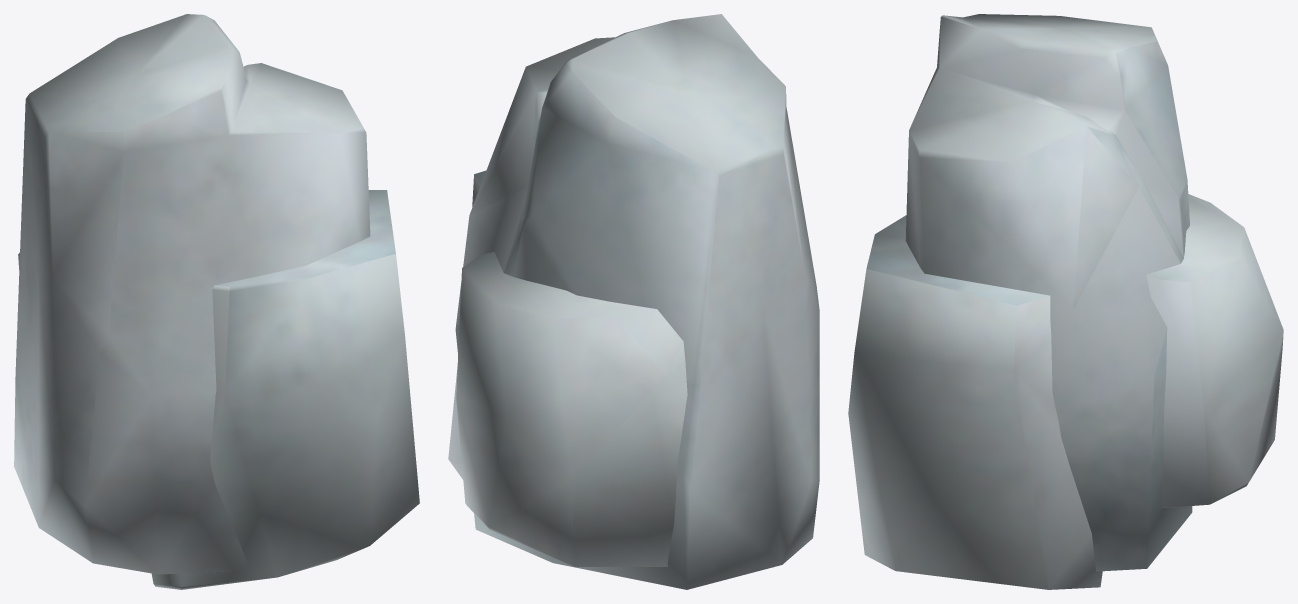
File: P_RockSpire_Rock14.obj
3 views of the same model, side by side, from view 1: azimuth 30°, elevation 25°; view 2: azimuth 150°, elevation 25°; view 3: azimuth 270°, elevation 25° (orthographic). The views are drawn at different scales.
Size of the model in its own units: 9.57 by 13.53 by 10.14.
